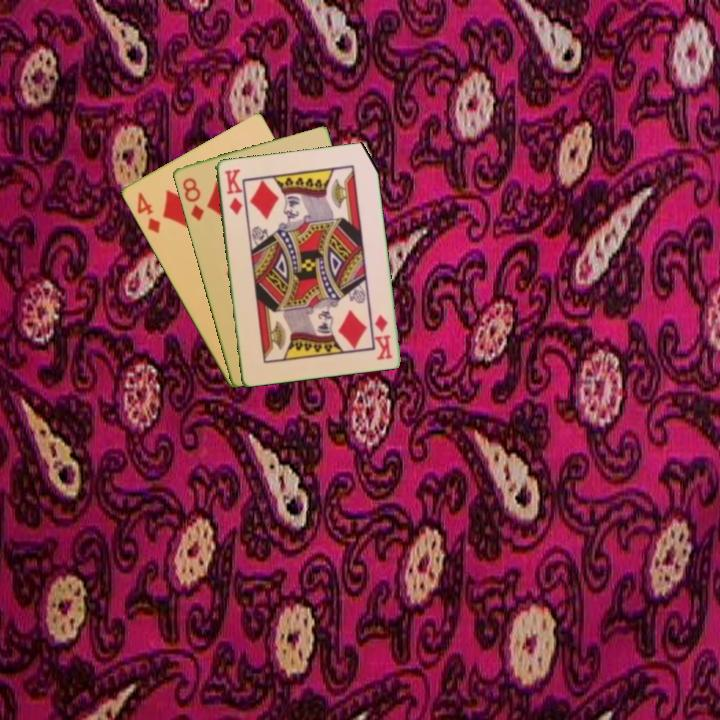4d: (133, 188, 163, 236)
8d: (179, 174, 206, 224)
Kd: (221, 166, 245, 218), (371, 311, 395, 362)
